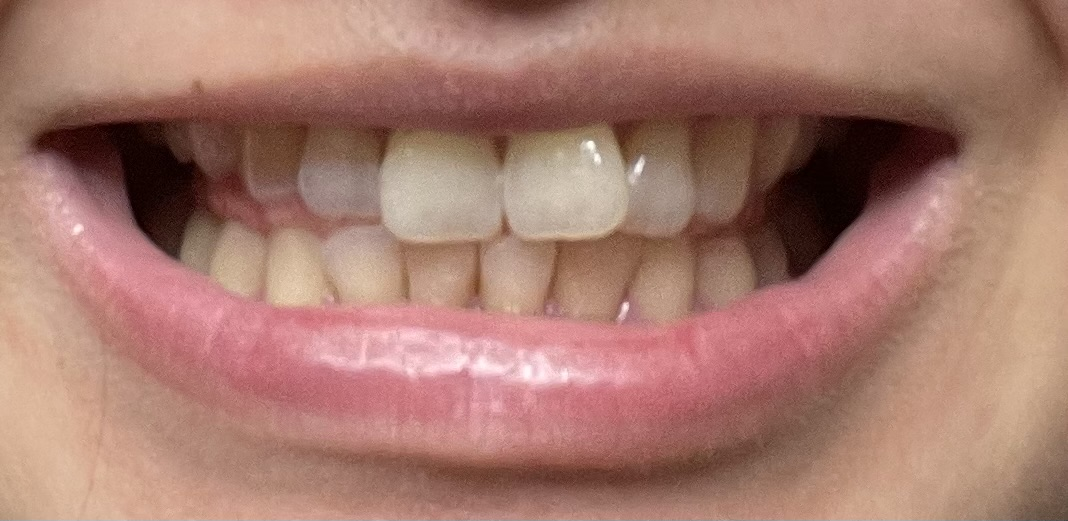teeth: (502, 124, 626, 239), (381, 132, 501, 238), (620, 118, 692, 235), (559, 236, 644, 322), (299, 123, 378, 215), (322, 226, 402, 305), (697, 116, 755, 219), (482, 237, 554, 314), (632, 240, 690, 326), (412, 244, 476, 305)
